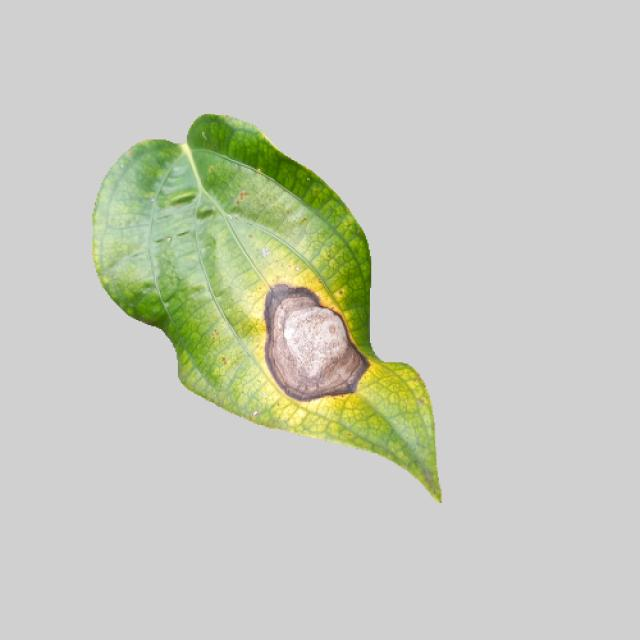leaf-blight: (72, 112, 449, 510)
